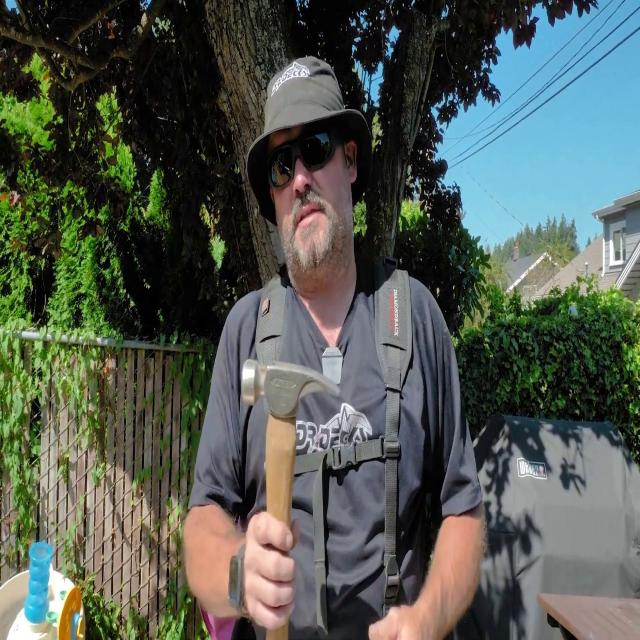hammer: (242, 358, 340, 640)
